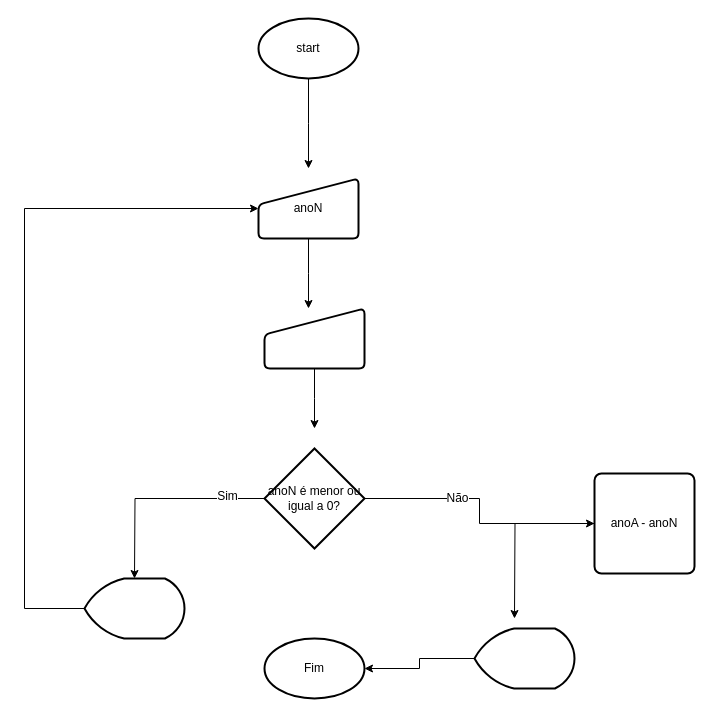
Image size: 713x716. Some labels were removed from this diagram. Here are the shapes that lost their labels. From the top down, the box of each, then its label:
(263, 307, 365, 369): anoN = 2006
(83, 577, 185, 639): Ano Invalído
(473, 627, 575, 689): Você tem date
